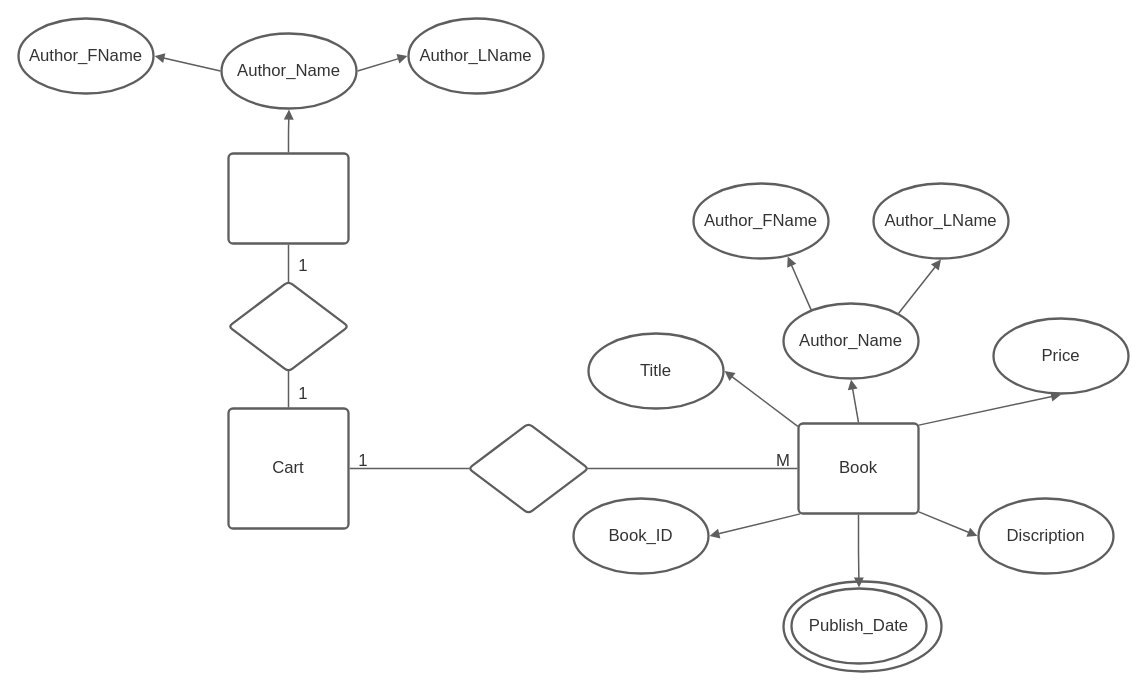
This 1147x690 diagram has some shape labels left out. Each missing label, with the centre of its shape:
Add_To_Cart: point 528,468
Customer: point 288,198
Decision: point 288,326
